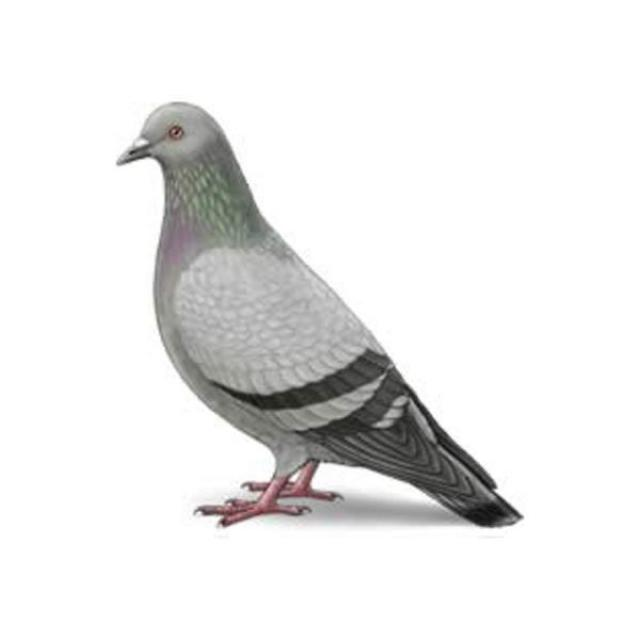pigeon: (117, 101, 522, 526)
